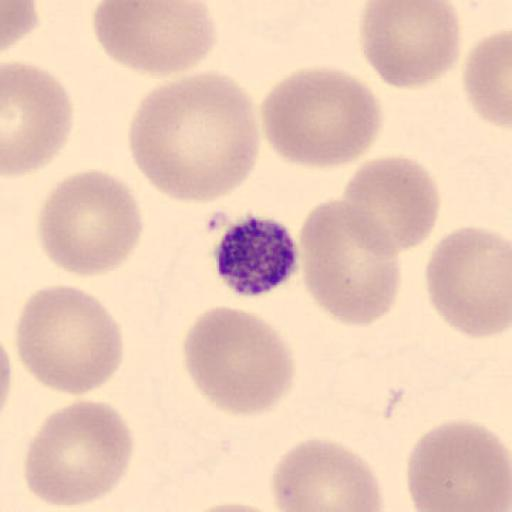Platelet: (210, 212, 302, 298)
RBC: (126, 70, 262, 206), (297, 198, 401, 328), (181, 304, 297, 418), (260, 64, 384, 170), (22, 398, 136, 510), (13, 284, 126, 396), (36, 167, 145, 280), (340, 153, 442, 255), (405, 417, 512, 512), (424, 224, 512, 338), (91, 1, 218, 78), (358, 0, 463, 90), (270, 436, 386, 512), (2, 59, 75, 178), (462, 27, 512, 130), (1, 0, 40, 54), (184, 499, 288, 512), (0, 336, 13, 418), (186, 502, 286, 512)
